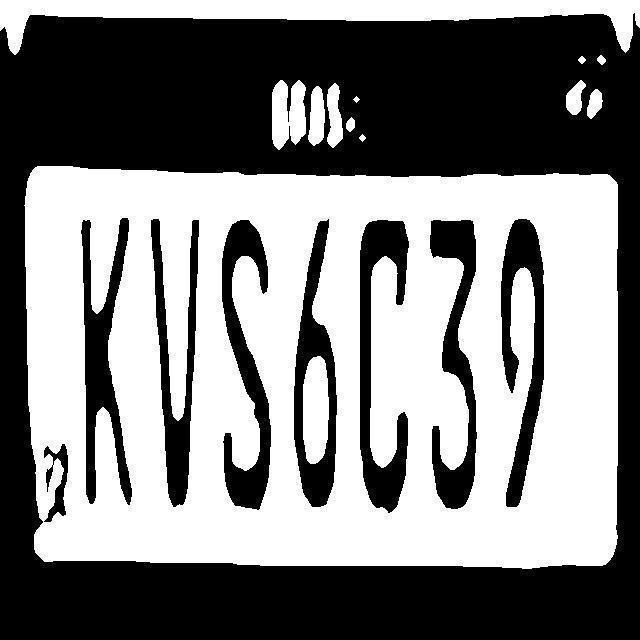3: (430, 214, 498, 524)
6: (276, 217, 346, 522)
9: (492, 212, 560, 520)
c: (354, 216, 419, 516)
k: (66, 199, 142, 506)
s: (206, 214, 278, 516)
v: (146, 204, 207, 502)
